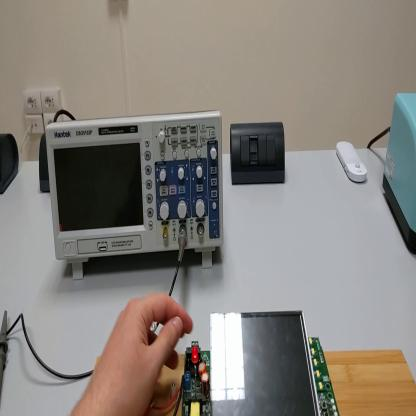hand: (92, 291, 194, 415)
low voltage board: (153, 309, 340, 416)
oscilloscope: (44, 111, 224, 279)
oscilloscope probe tip: (2, 312, 9, 405)
socket: (1, 134, 20, 201), (40, 131, 52, 193)
welder station: (382, 94, 416, 257)
working area: (96, 353, 415, 414)
